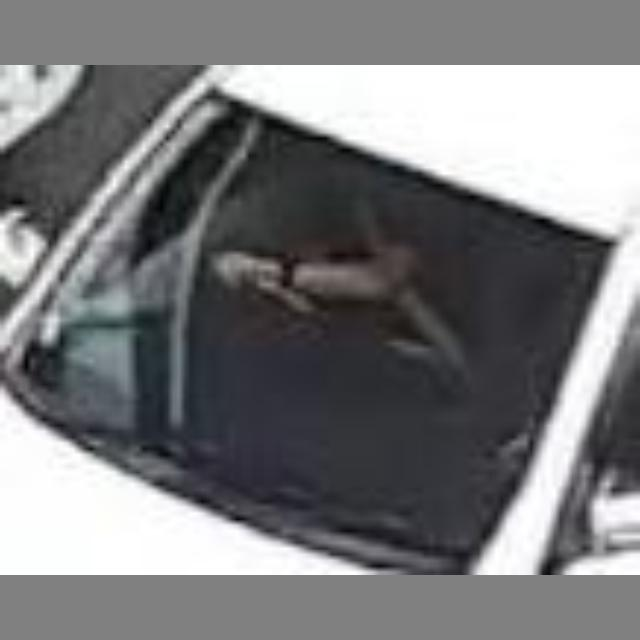pakai: (241, 153, 476, 388)
